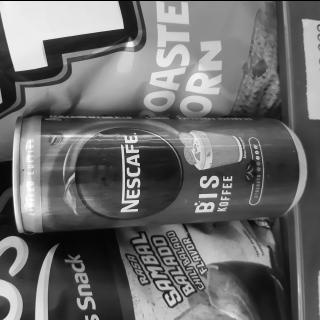alumunium_can: (13, 73, 311, 237)
